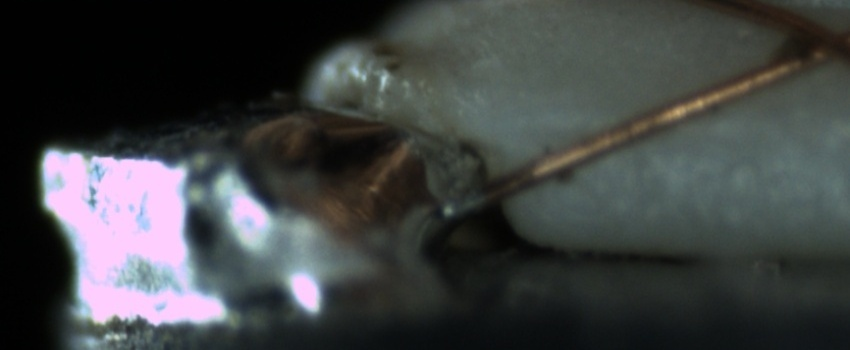CL: (765, 7, 847, 79)
TS: (437, 185, 488, 222)
